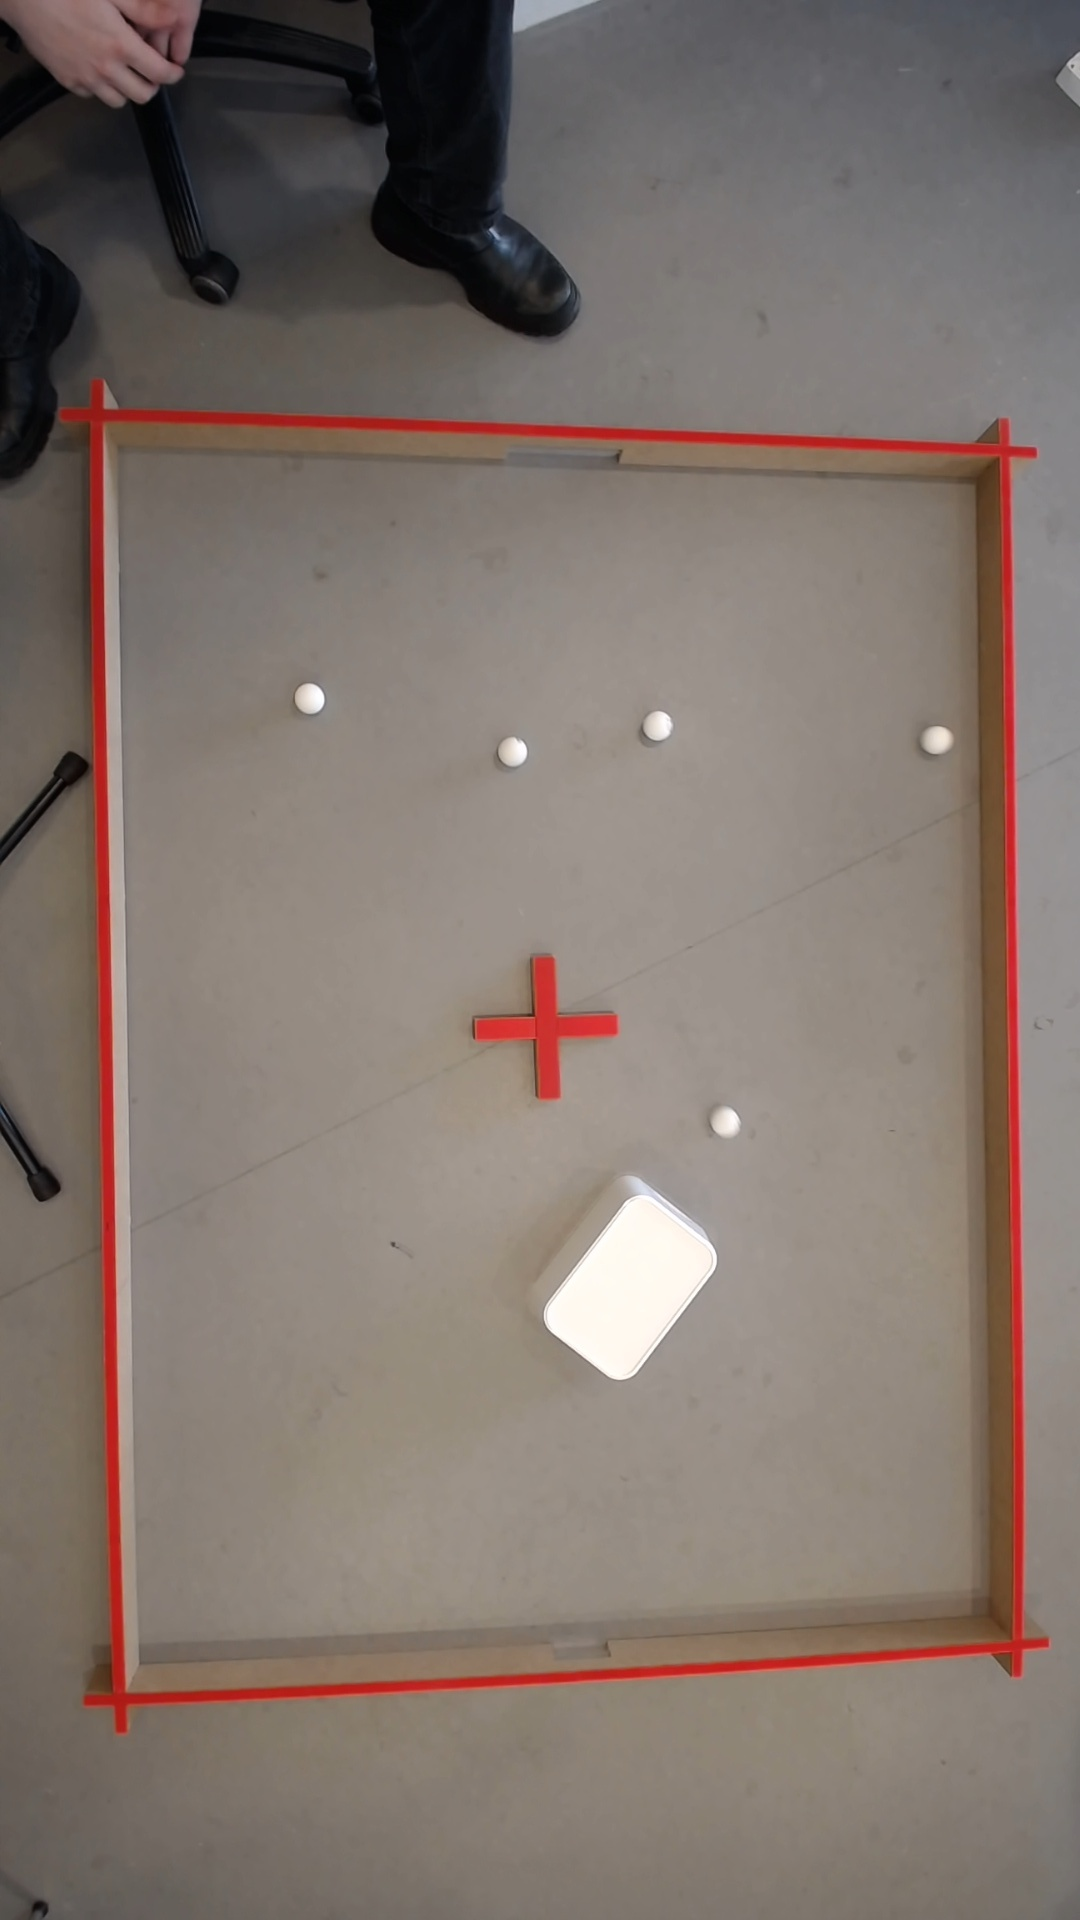balls: (529, 1175, 731, 1387), (294, 679, 328, 713), (711, 1105, 742, 1139), (500, 735, 531, 766), (649, 711, 671, 740)
car: (923, 723, 953, 754)
